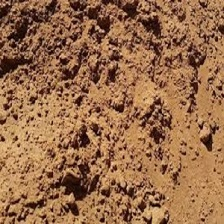sandy_soil: (8, 11, 211, 199)
